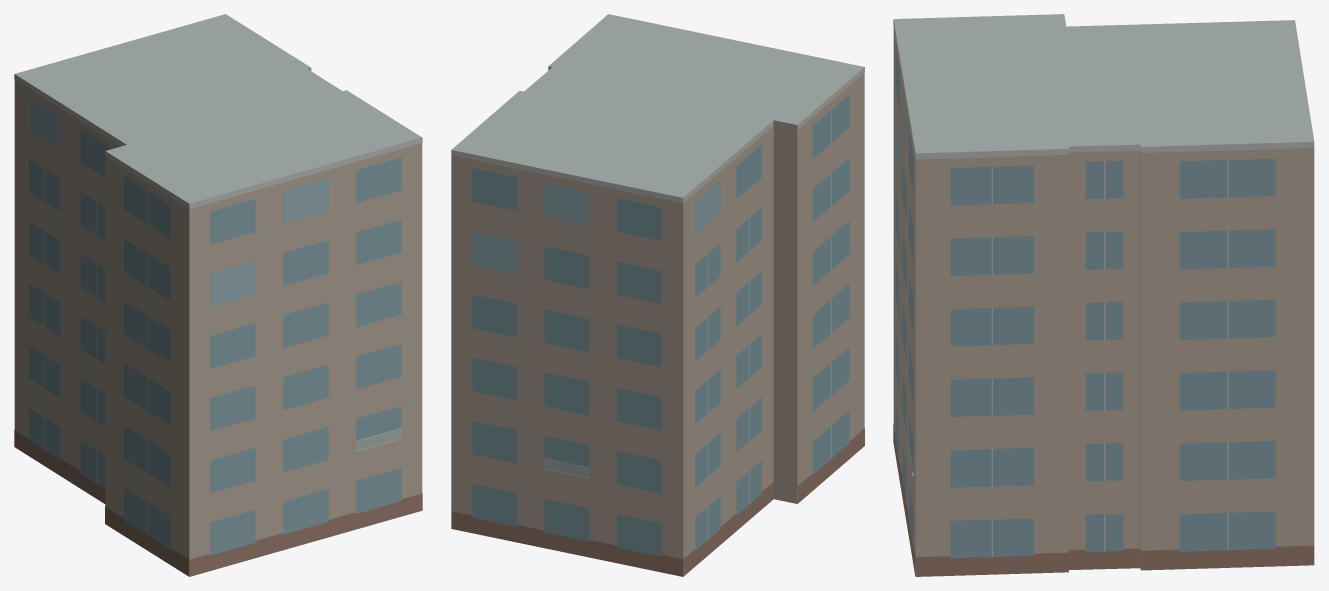
File: survey-upis-32754453.glb
The picture shows the model from 3 angles, left to right: view 1: azimuth 30°, elevation 25°; view 2: azimuth 150°, elevation 25°; view 3: azimuth 270°, elevation 25°; orthographic projection. The views are drawn at different scales.
Visible parts, largest first — view 1: survey-upis-32754453.tmp; view 2: survey-upis-32754453.tmp; view 3: survey-upis-32754453.tmp.
Part boxes in pixels (x1=…): survey-upis-32754453.tmp: x1=14, y1=14, x2=422, y2=576; survey-upis-32754453.tmp: x1=451, y1=14, x2=864, y2=576; survey-upis-32754453.tmp: x1=893, y1=14, x2=1314, y2=576.
Bounding box in the file's own units: 12.01 × 17 × 15.33.
